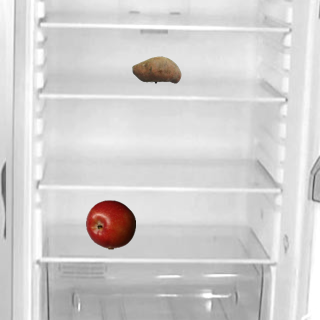Apple Braeburn: (85, 199, 135, 249)
Potato Sweet: (131, 44, 181, 94)
